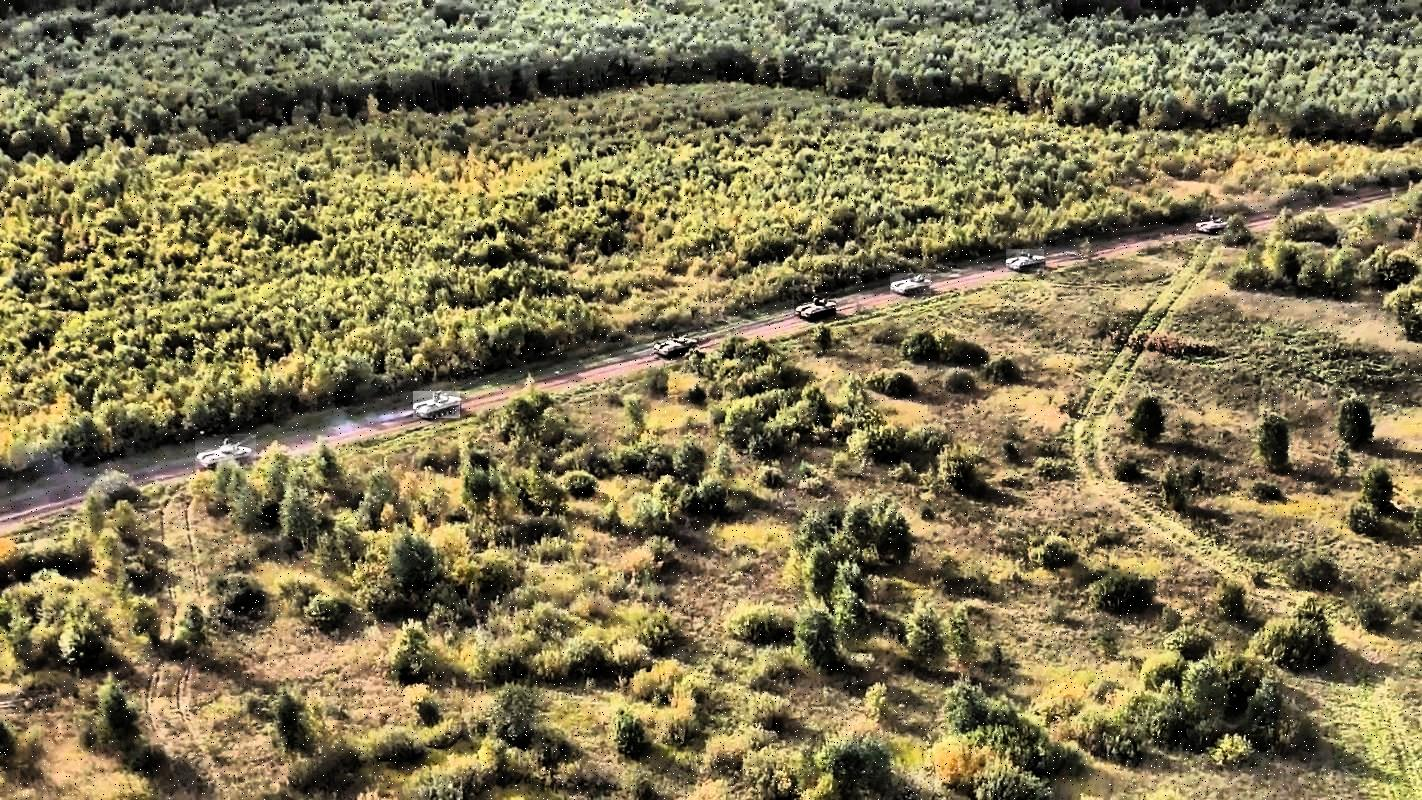military-vehicle: (195, 434, 256, 468), (414, 391, 461, 418), (655, 333, 700, 360), (794, 295, 836, 321), (890, 273, 931, 294), (1006, 249, 1044, 271), (1197, 215, 1231, 234)
